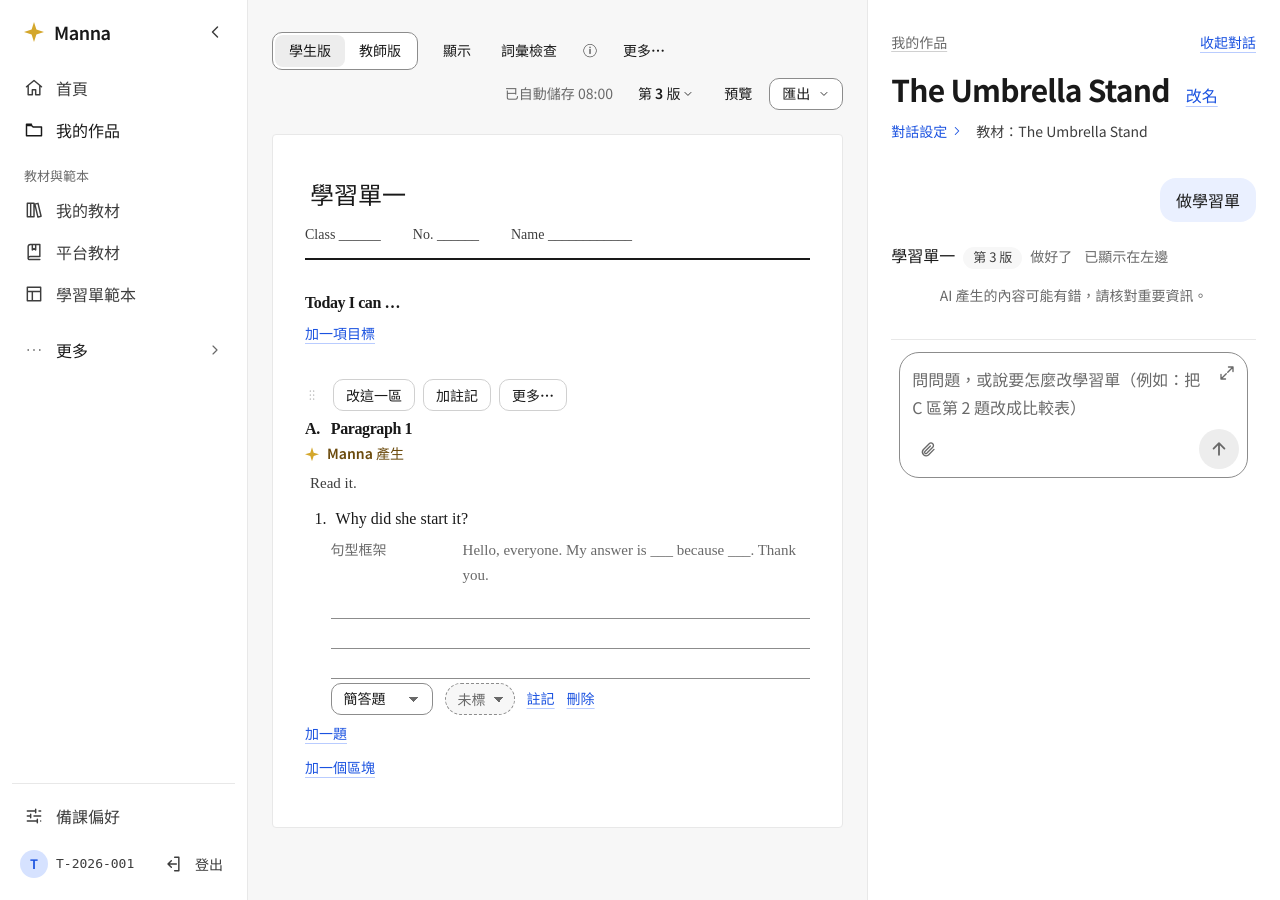
Test: the worksheet pane of the 備課對話 › 預覽 (in the toolbar, next to 匯出) shows the printed sheet read-only; closing returns focus to it
Click the button "更多…" in the row of "教師版" at (644, 51), box [610, 35, 678, 67]
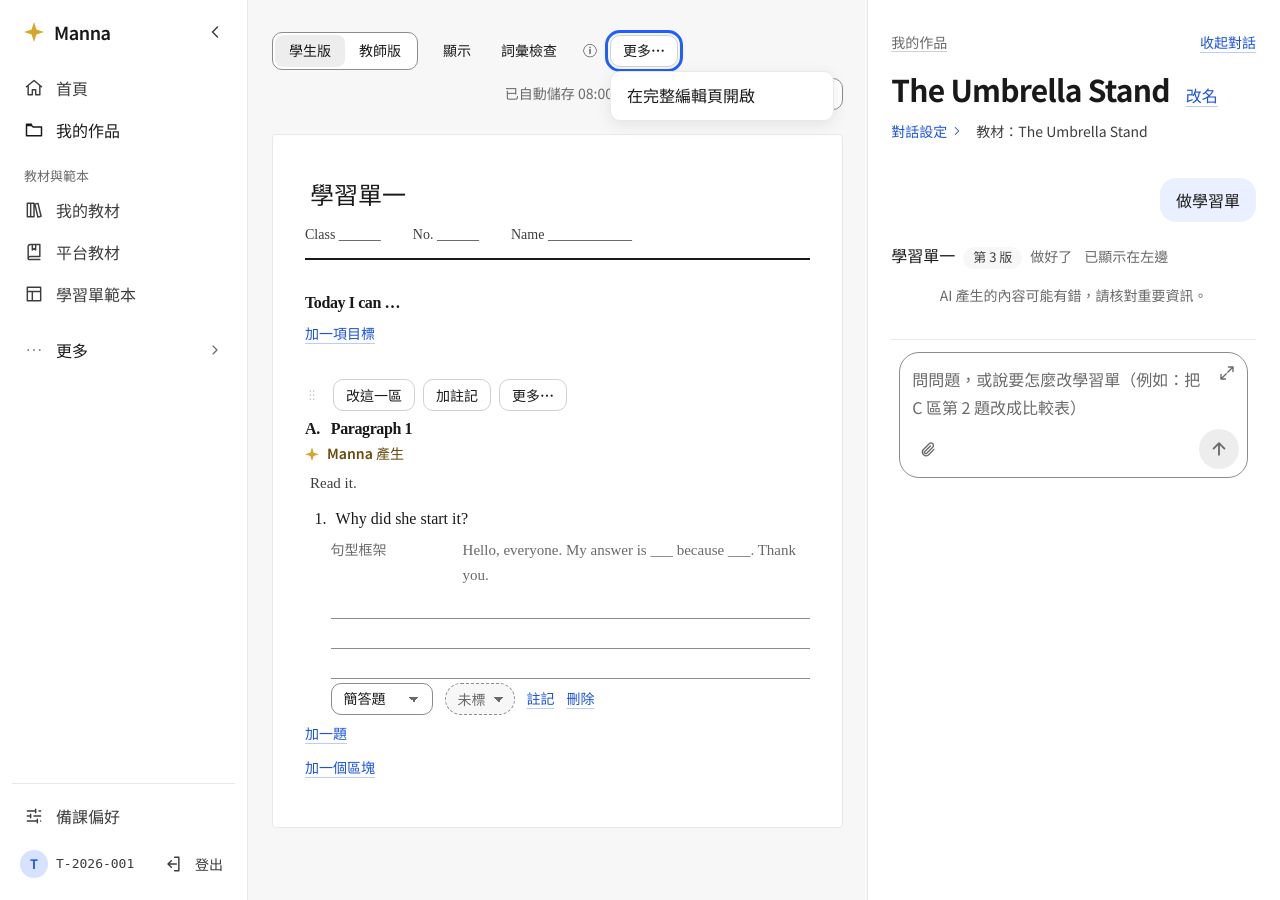
Expected: the button "列印樣式預覽" is not shown
Press Escape
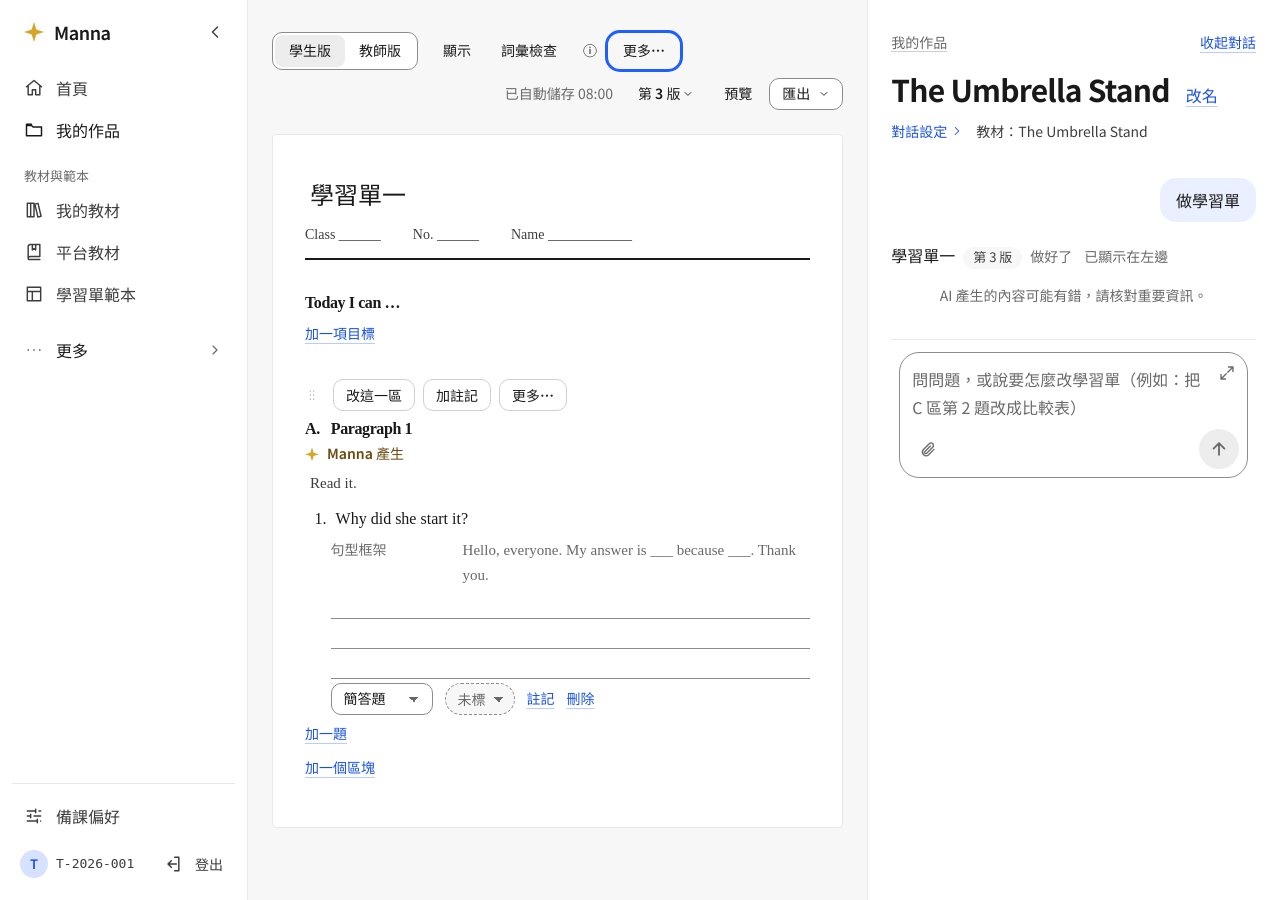
Click the button "預覽" at (738, 94), box [711, 78, 765, 110]
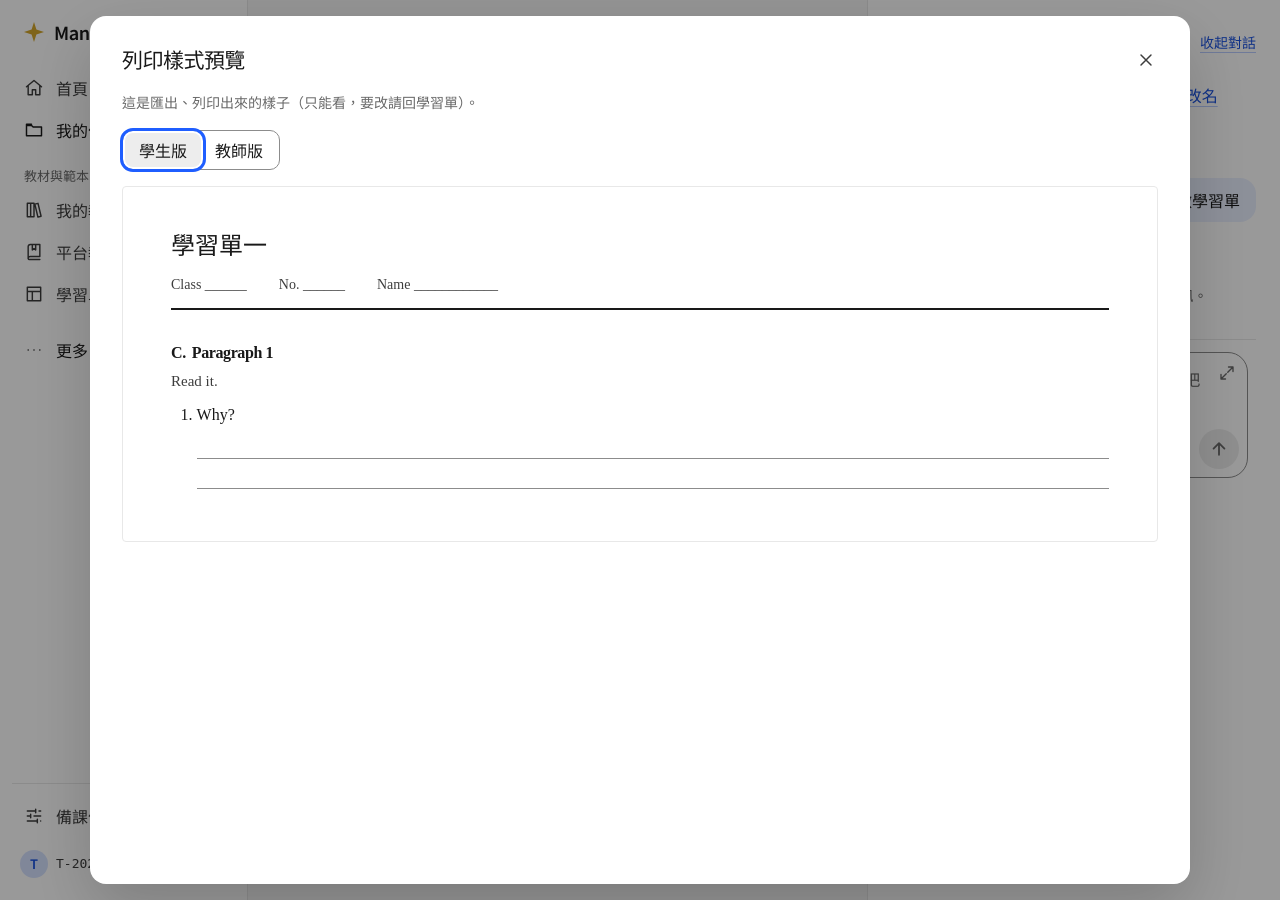
Now the text "Why?" is shown, box [197, 406, 235, 423]
Click the 2nd radio button labelled "教師版" at (239, 150), box [215, 138, 263, 162]
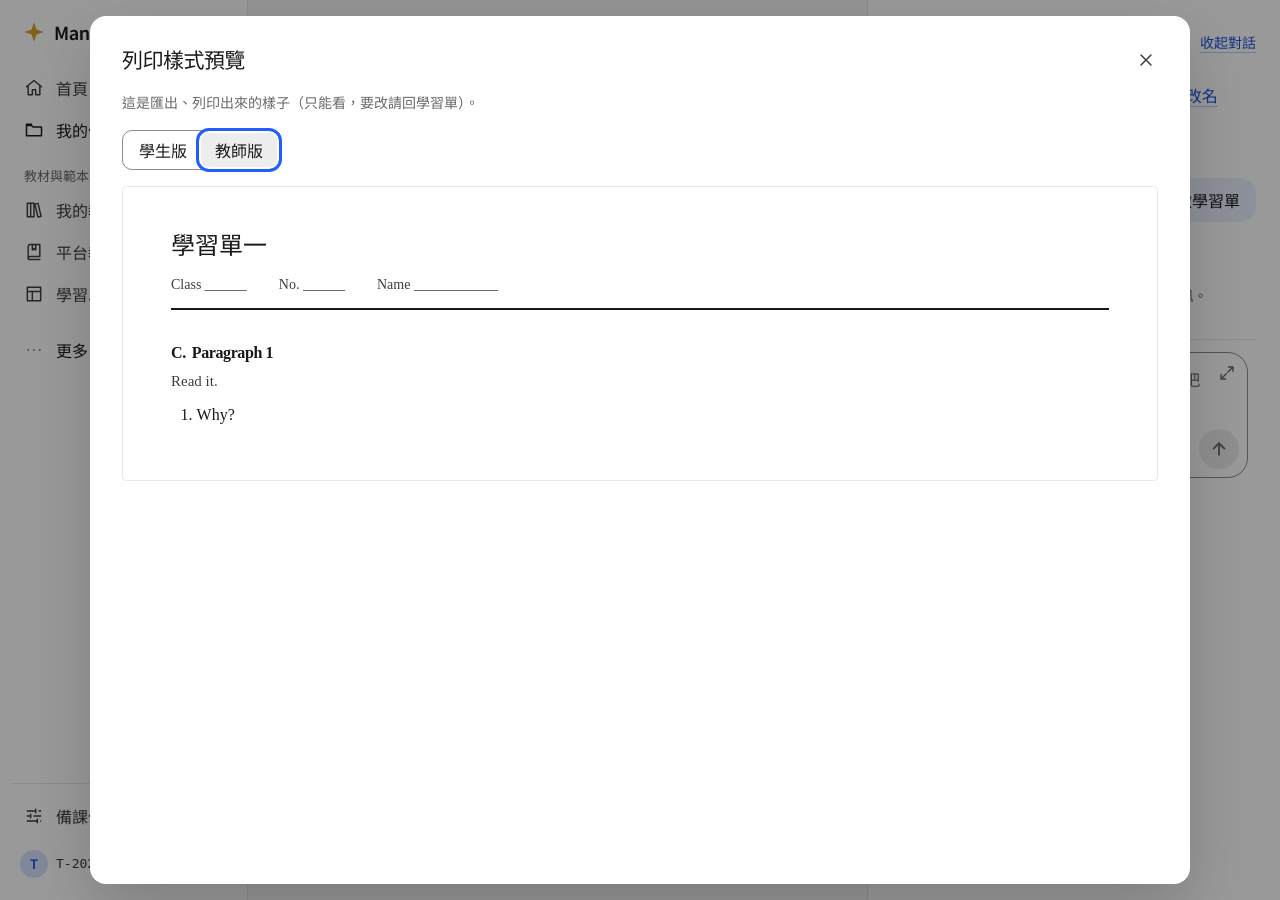
Now the element named "教師版" is shown, box [122, 186, 1158, 481]
Press Escape
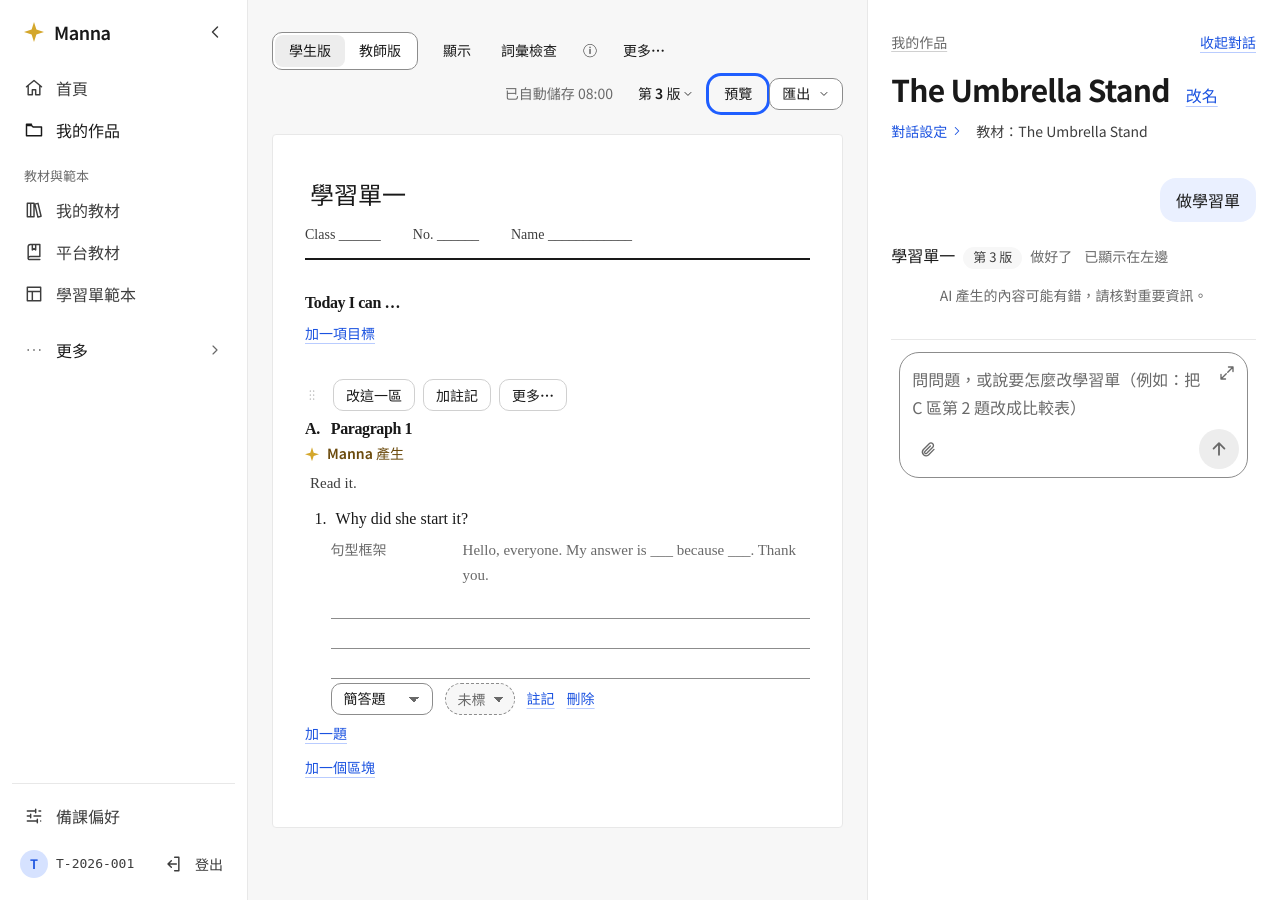
Now the heading "列印樣式預覽" is gone
